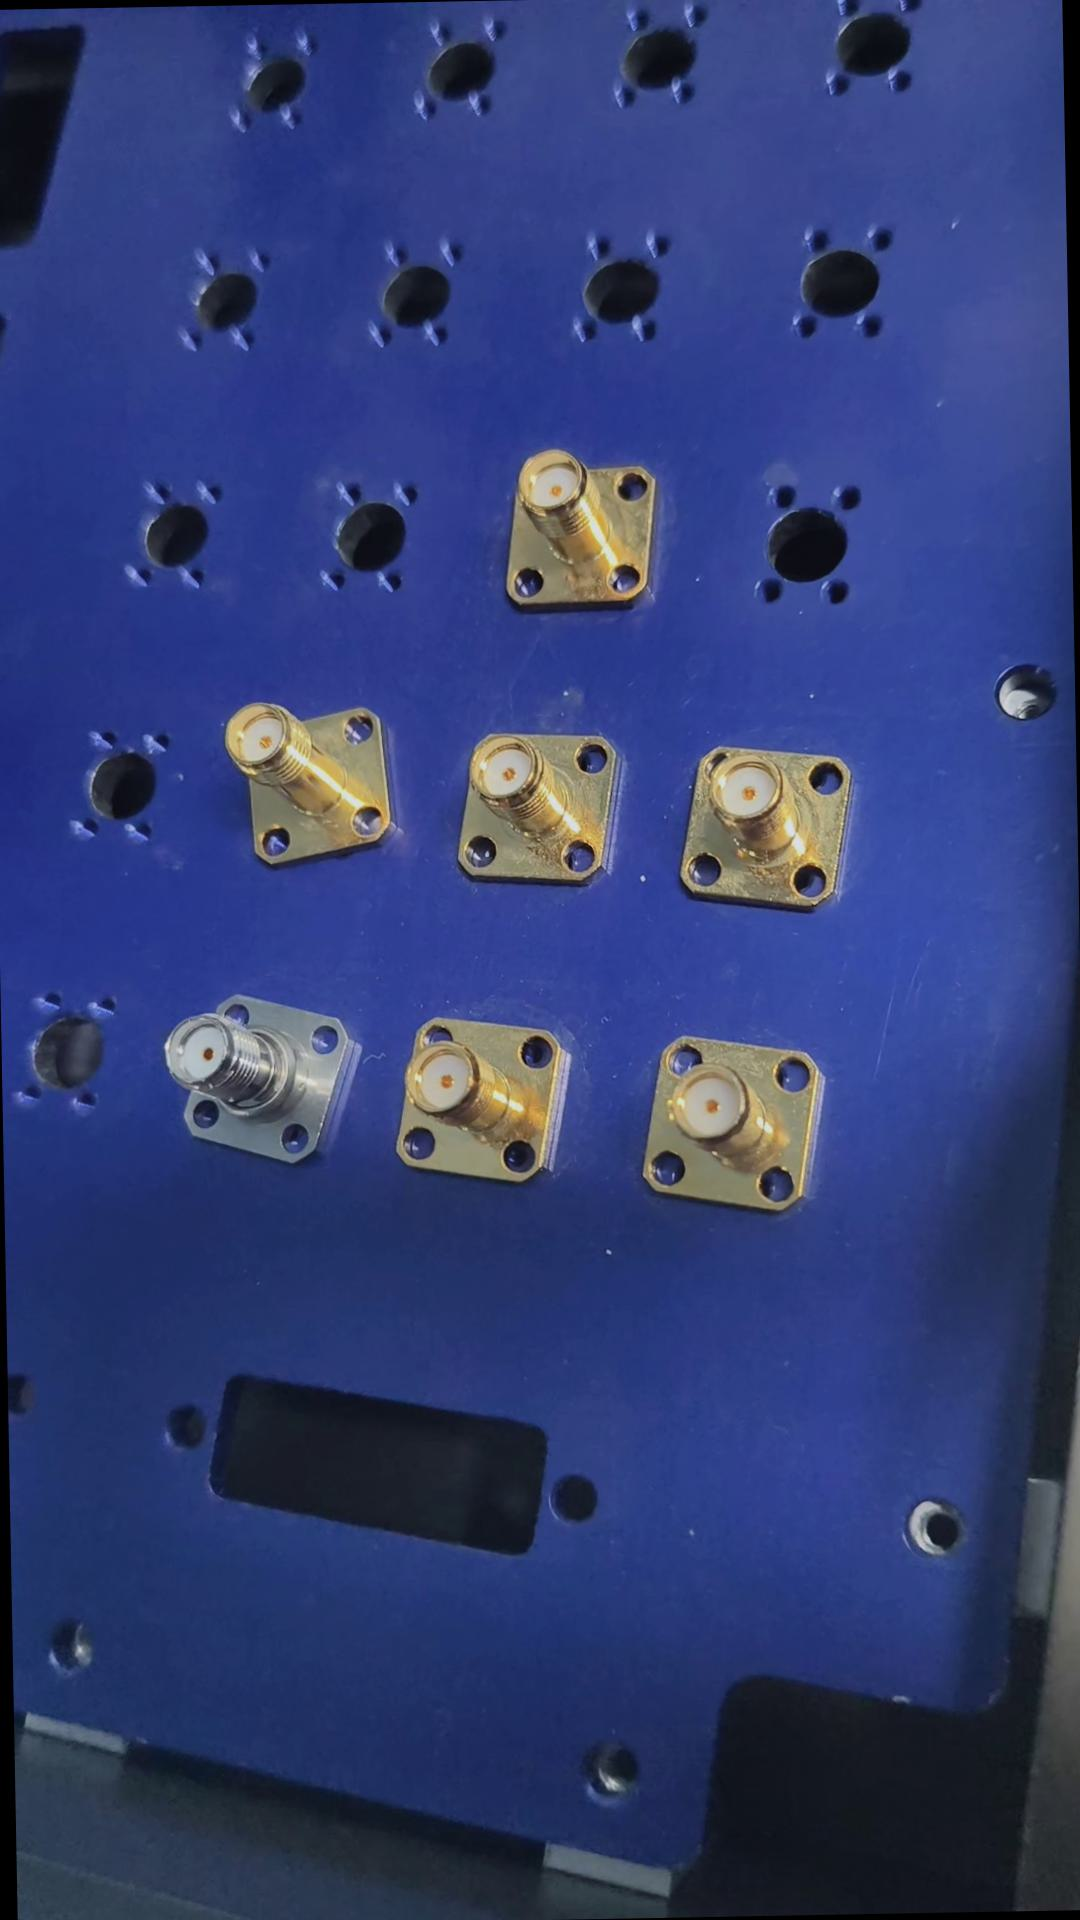SMA: (630, 1030, 825, 1224), (160, 992, 357, 1168), (386, 1007, 567, 1188), (673, 738, 856, 907), (218, 700, 396, 869), (452, 727, 625, 891), (491, 447, 665, 611)
